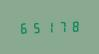eight: (66, 19, 77, 33)
five: (30, 20, 41, 34)
one: (42, 20, 53, 33)
seven: (54, 19, 65, 33)
six: (18, 21, 29, 34)
